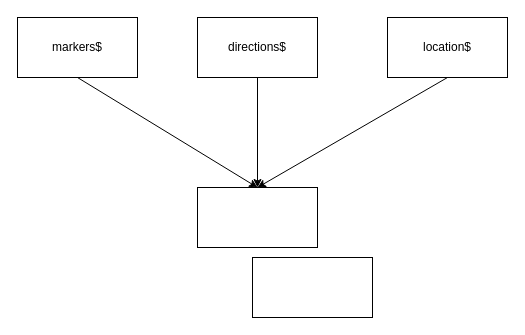
Image size: 525x335. Some labels were removed from this diagram. Each missing label, with the box of its shape:
layer$: (196, 186, 318, 248)
mapTo {directions, markers, location}: (252, 256, 372, 318)
